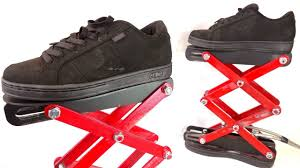Scissor Lift: (184, 45, 294, 168)
